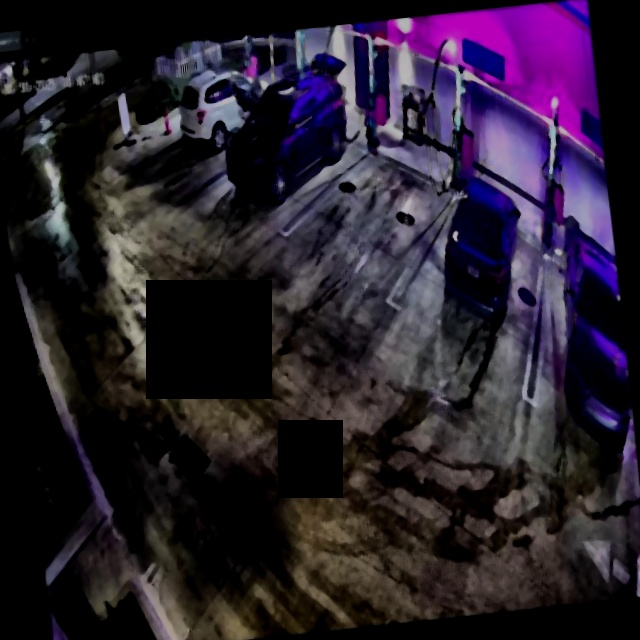Car: (216, 50, 359, 207), (433, 165, 531, 322), (174, 64, 278, 152)
